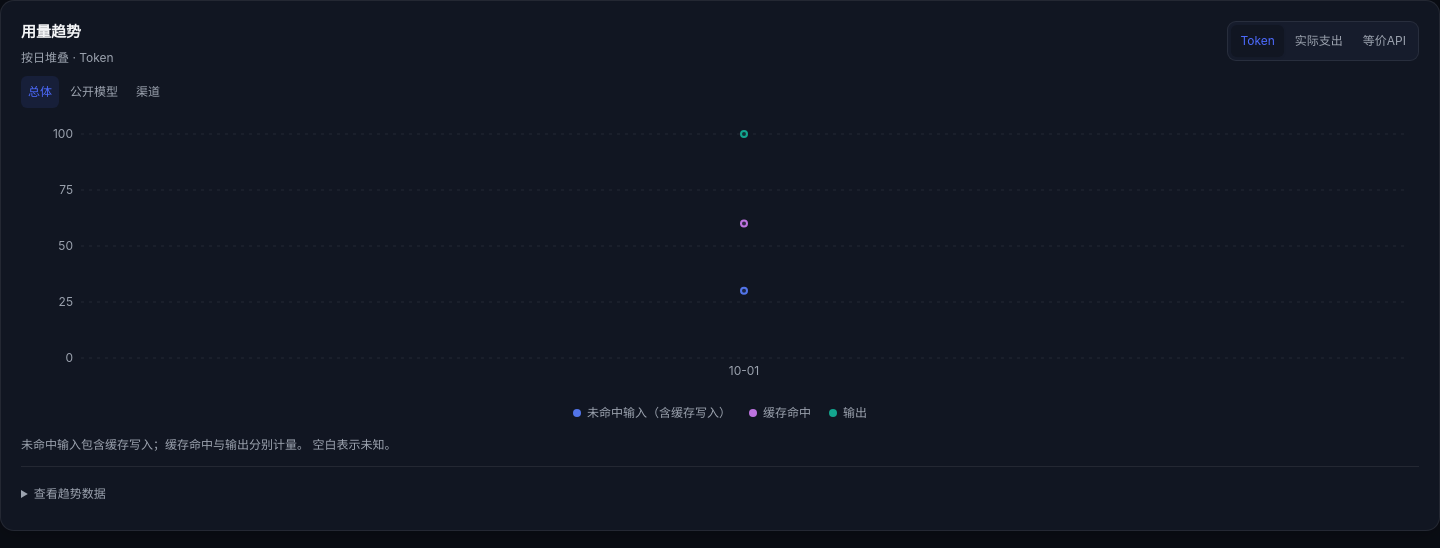
Test case: UsageTrend › blocks multi-currency money totals without a valid rate
The image size is (1440, 548).
Click the button "实际支出" at (1319, 41), box [1286,25,1352,57]
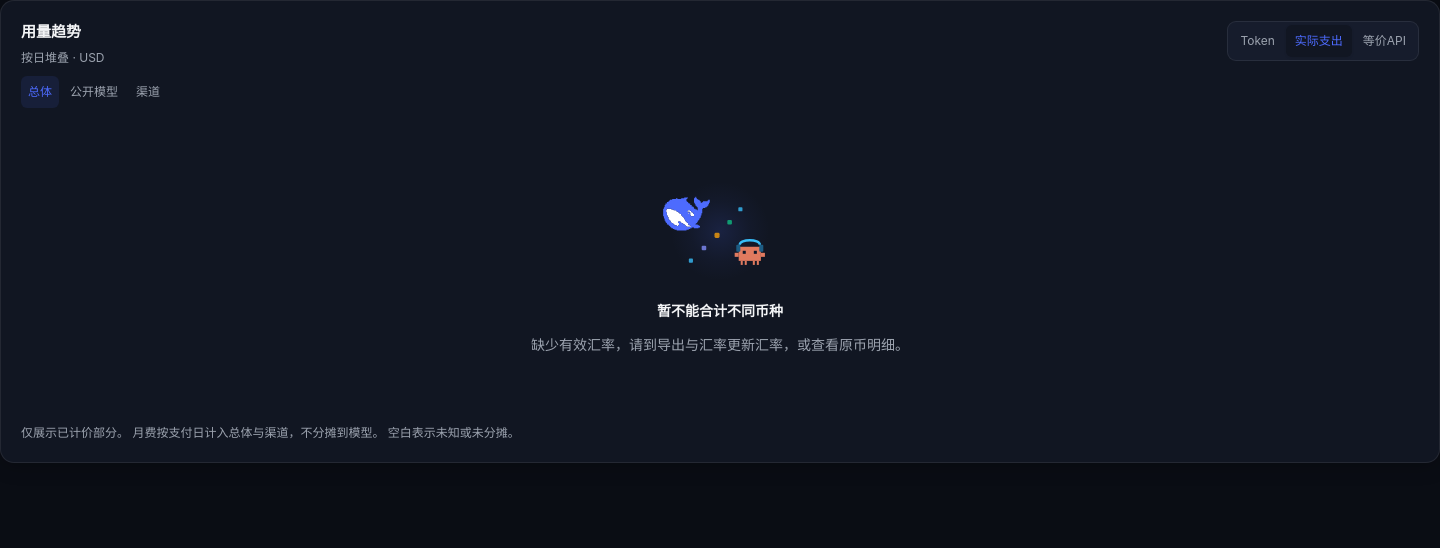
Expected: the heading "暂不能合计不同币种" is shown, [657,300,783,321]
